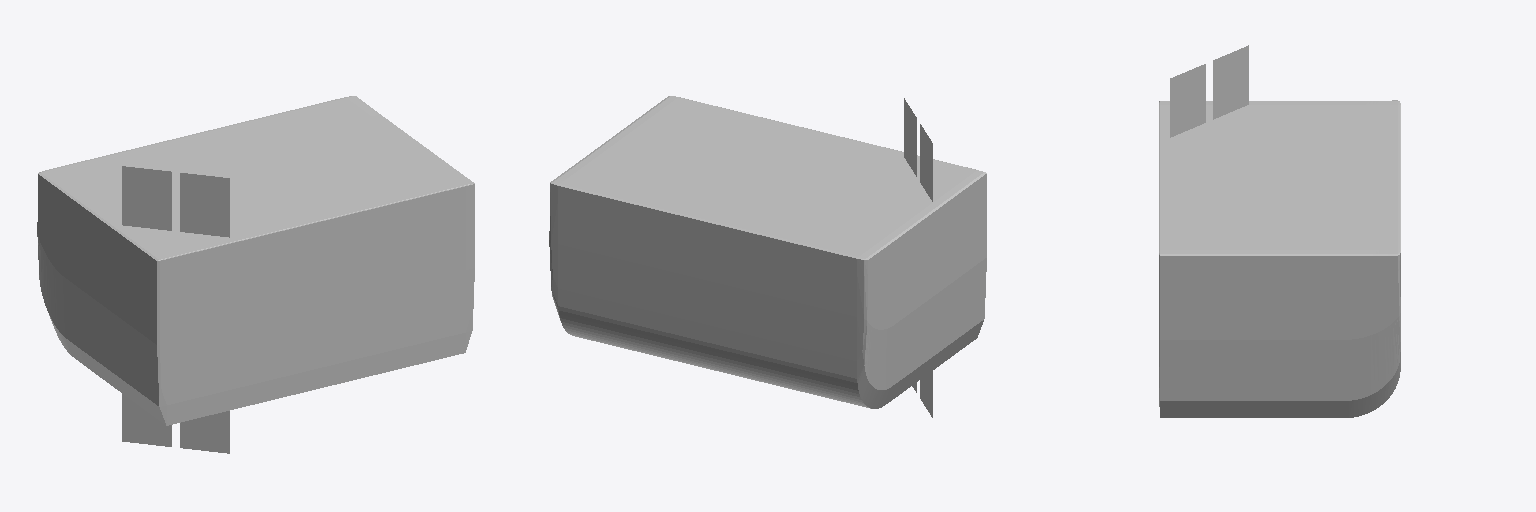
Rendered from Lightbulb.obj.
3 views of the same model, side by side, from view 1: azimuth 30°, elevation 25°; view 2: azimuth 150°, elevation 25°; view 3: azimuth 270°, elevation 25° (orthographic).
Visible parts, largest first — view 1: Plane_Plane.001, Plane.001_Plane; view 2: Plane_Plane.001, Plane.001_Plane; view 3: Plane_Plane.001, Plane.001_Plane.
Boxes of the visible parts, x1,y1,x2,y2 form: Plane_Plane.001: [37, 96, 474, 425]; Plane.001_Plane: [122, 166, 229, 453]; Plane_Plane.001: [549, 96, 986, 408]; Plane.001_Plane: [904, 98, 932, 417]; Plane_Plane.001: [1159, 100, 1400, 417]; Plane.001_Plane: [1170, 45, 1248, 137].
Bounding box in the file's own units: 14.27 × 11.82 × 9.41.